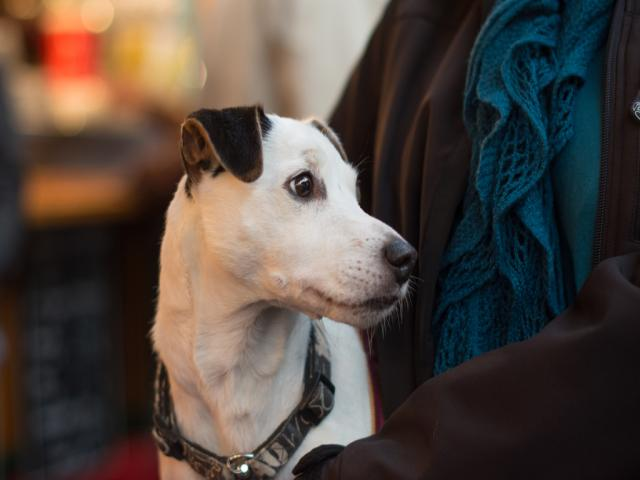Dog: (148, 104, 418, 480)
